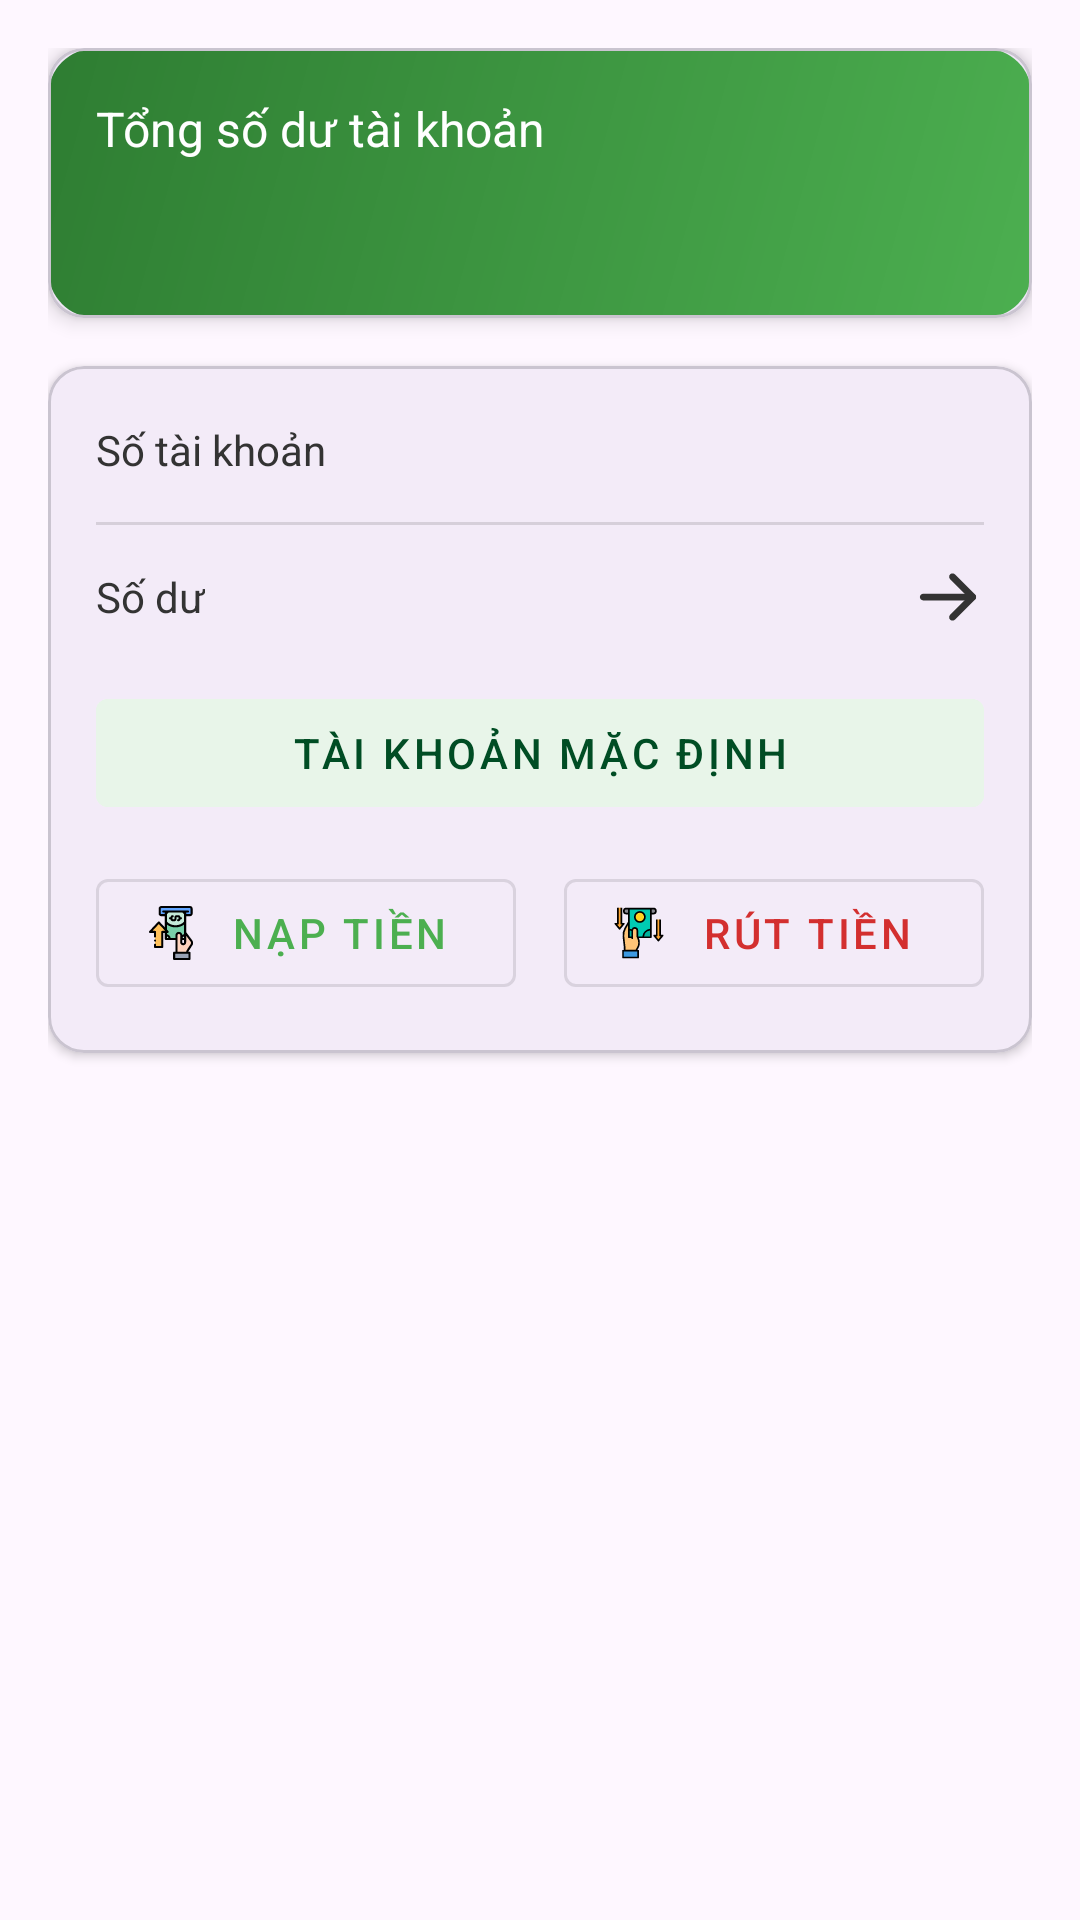

Icon bounding boxes for this 1080px×1920px phone screenshot, format (x1, y1, x2, y2):
arrow forward: (920, 573, 976, 621)
